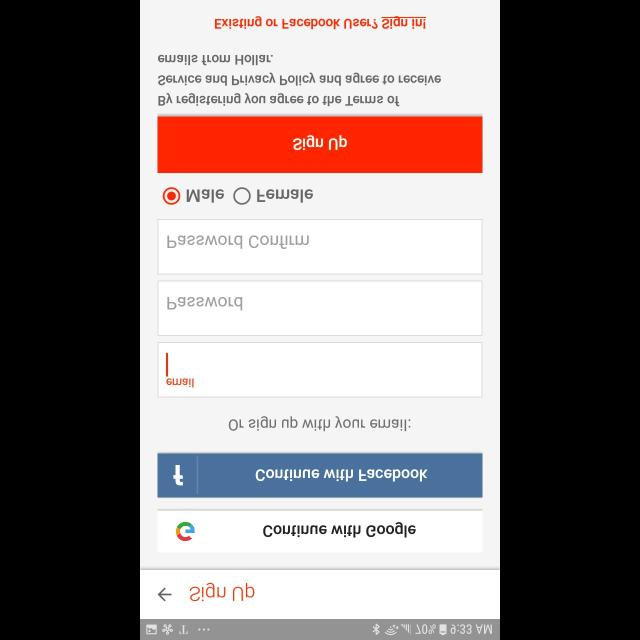checkbox: (162, 188, 180, 205), (233, 188, 250, 205)
icon: (158, 587, 172, 601)
input: (158, 342, 482, 398), (158, 218, 482, 274), (158, 280, 482, 336)
text: (158, 54, 442, 106), (216, 15, 427, 29), (230, 417, 410, 431), (168, 235, 310, 249), (190, 582, 254, 602), (168, 296, 242, 310), (257, 189, 313, 203), (187, 189, 225, 203), (166, 378, 194, 388)
textbutton: (158, 116, 482, 172), (158, 453, 482, 497), (158, 510, 482, 552)
uppertaskbar: (140, 618, 500, 640)
